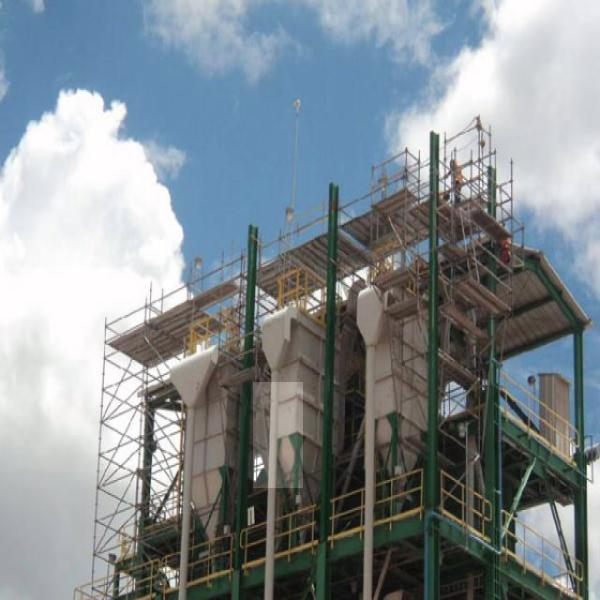no leak: (253, 382, 303, 488)
